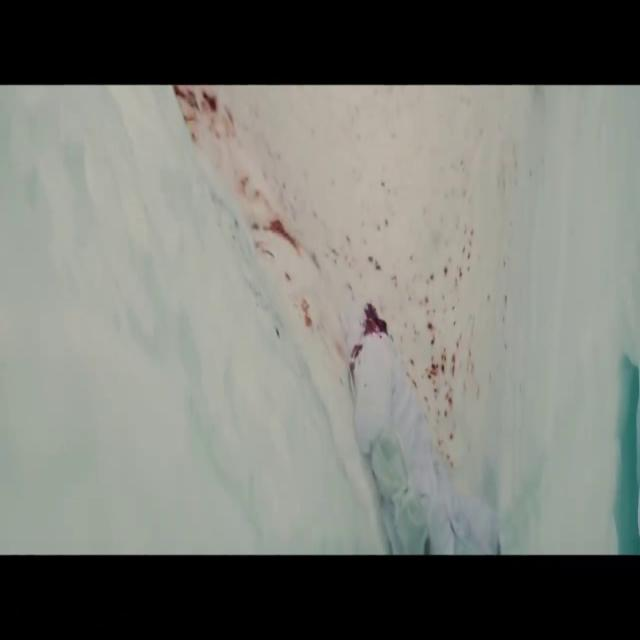Camouflage: (326, 304, 503, 554)
